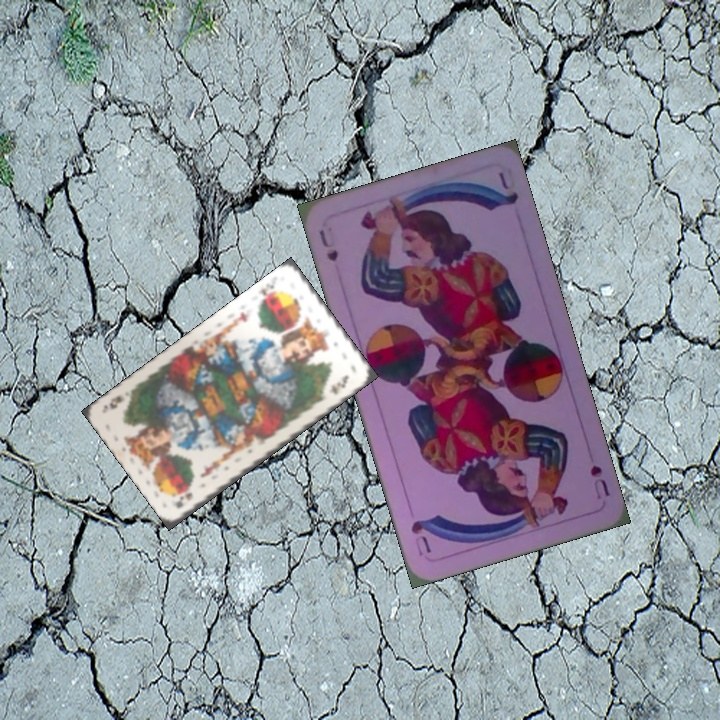SK: (169, 488, 195, 511), (255, 276, 279, 299)
SU: (586, 461, 613, 502), (315, 225, 341, 267)
